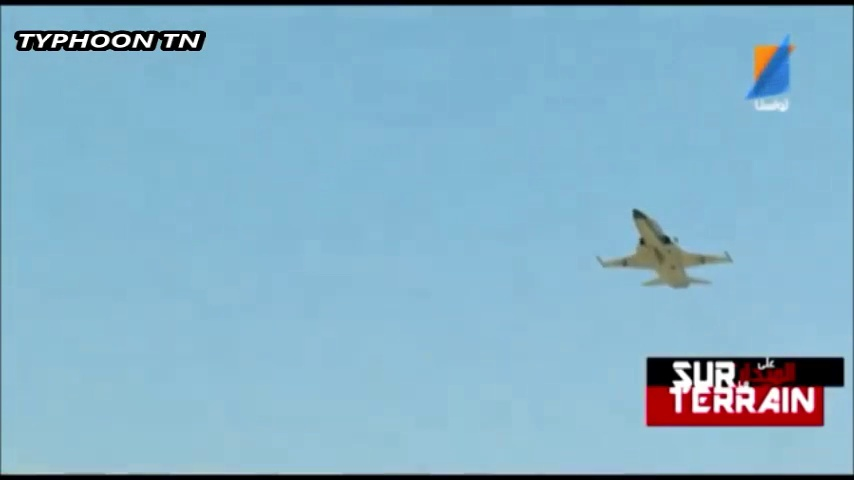Airplane: (597, 207, 733, 290)
